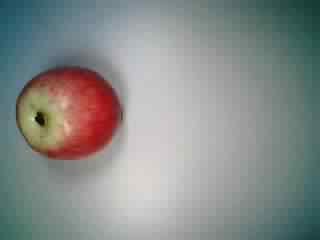apple: (17, 64, 121, 164)
